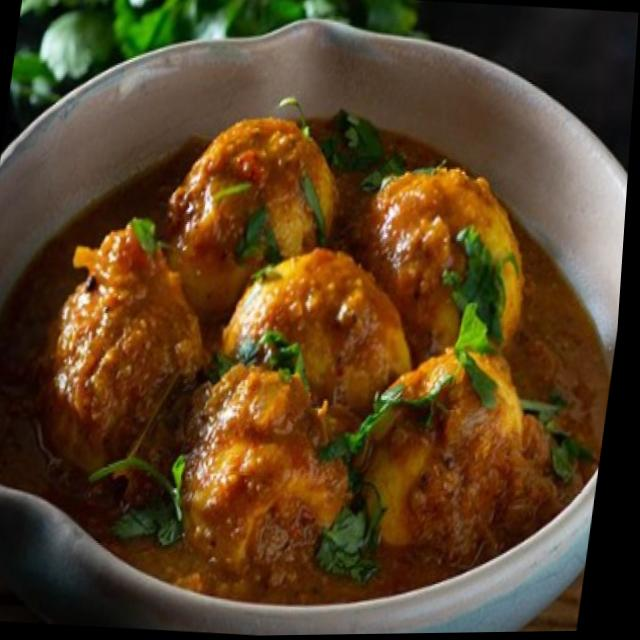EGG: (0, 17, 636, 632)
